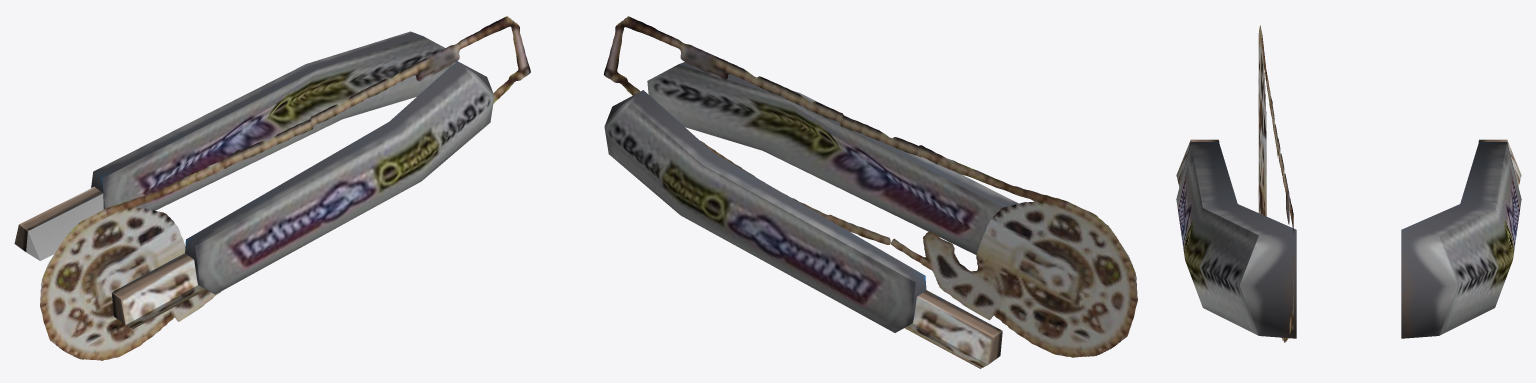
The model's file is Moto_rear_suspension.FBX.
3 views of the same model, side by side, from view 1: azimuth 30°, elevation 25°; view 2: azimuth 150°, elevation 25°; view 3: azimuth 270°, elevation 25° (orthographic). The views are drawn at different scales.
Visible parts, largest first — view 1: suspensie spate; view 2: suspensie spate; view 3: suspensie spate.
Part boxes in pixels (<box>): suspensie spate: <box>14,16,530,360</box>; suspensie spate: <box>604,16,1137,368</box>; suspensie spate: <box>1176,25,1521,342</box>.
Size of the model in its own units: 58.71 by 26 by 21.19.
1 material, 1 textured.
